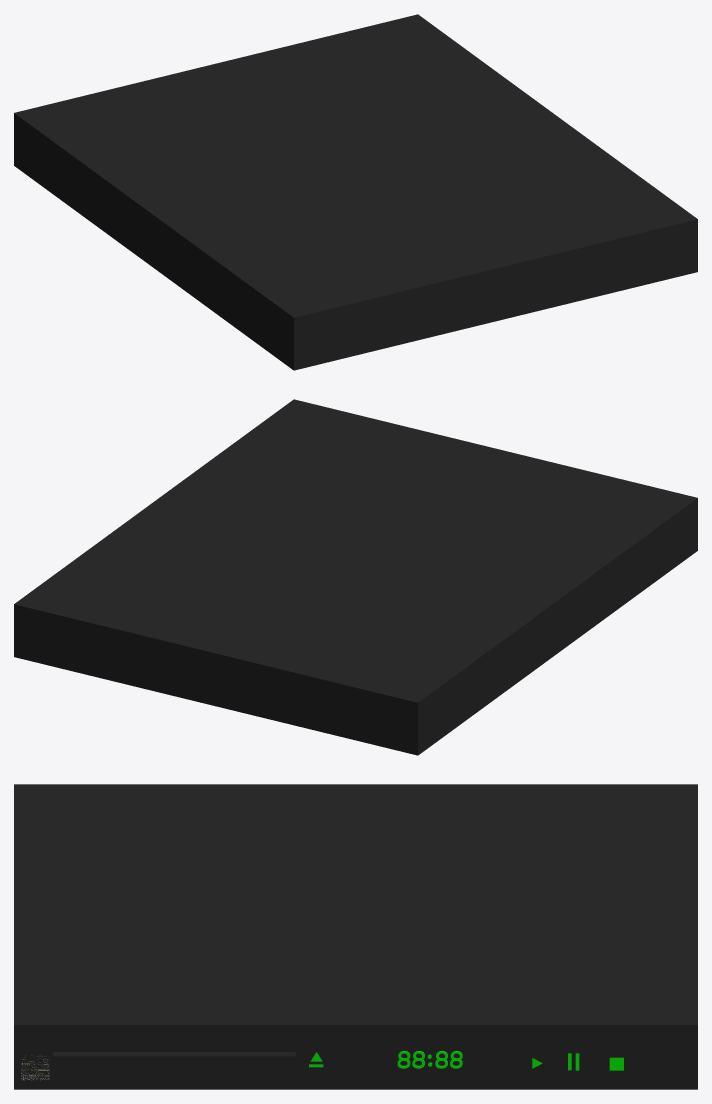
The picture shows the model from 3 angles, top to bottom: view 1: azimuth 30°, elevation 25°; view 2: azimuth 150°, elevation 25°; view 3: azimuth 270°, elevation 25°; orthographic projection. The views are drawn at different scales.
Visible parts, largest first — view 1: Mesh7 Model; view 2: Mesh7 Model; view 3: Mesh7 Model.
Part boxes in pixels (bbox=[...]): Mesh7 Model: bbox=[14, 14, 697, 370]; Mesh7 Model: bbox=[14, 399, 697, 755]; Mesh7 Model: bbox=[14, 784, 697, 1089].
Bounding box in the file's own units: 10.03 × 1.25 × 12.
Materials: 3 (1 with a texture image).
